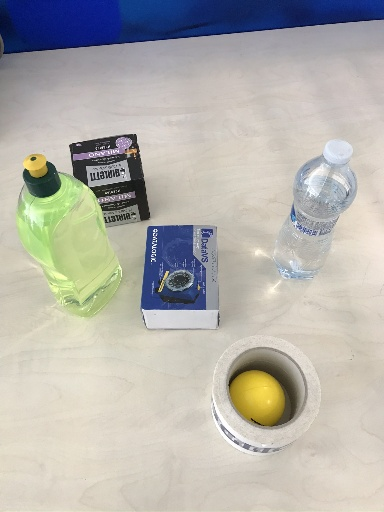Acqua: (271, 138, 360, 281)
Box: (141, 222, 223, 332)
Caffe: (69, 132, 152, 228)
Nastro: (210, 334, 324, 457)
Palla: (230, 372, 286, 427)
Sapone: (15, 155, 126, 319)
